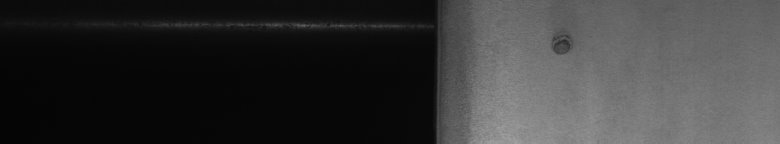fi: (547, 32, 573, 63)
